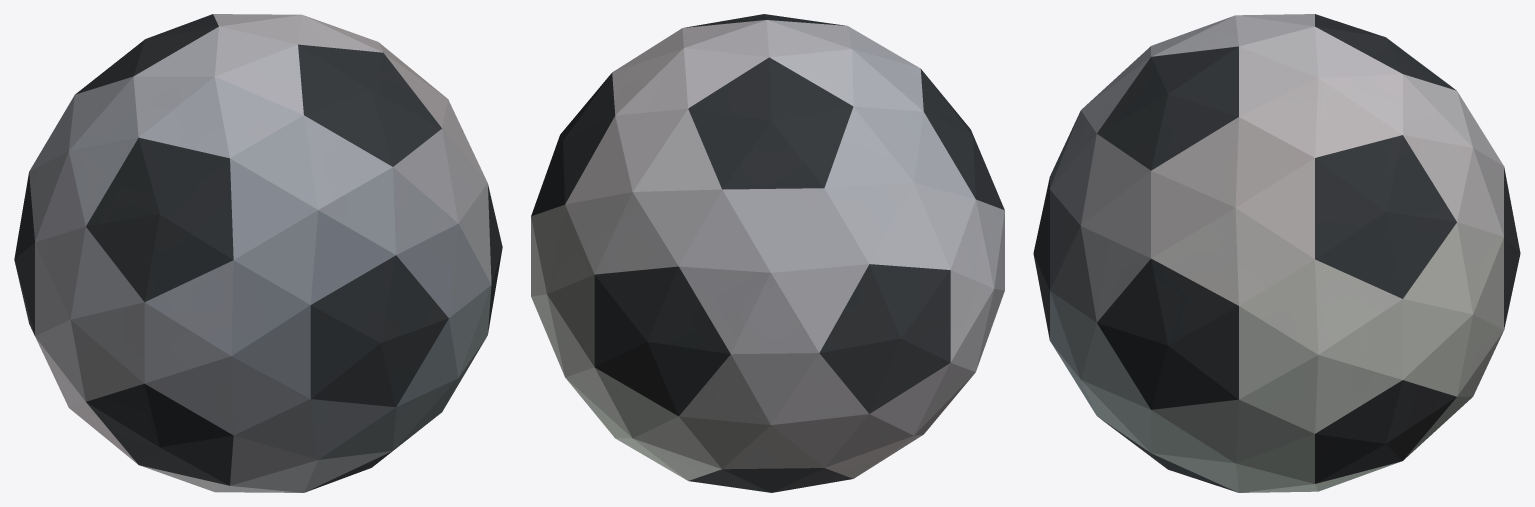
File: 35_soccer_ball.glb
3 views of the same model, side by side, from view 1: azimuth 30°, elevation 25°; view 2: azimuth 150°, elevation 25°; view 3: azimuth 270°, elevation 25° (orthographic).
Visible parts, largest first — view 1: soccerball; view 2: soccerball; view 3: soccerball.
Boxes of the visible parts, x1,y1,x2,y2 form: soccerball: (14,14,502,492); soccerball: (531,14,1004,492); soccerball: (1033,14,1520,492).
Size of the model in its own units: 0.2168 by 0.2163 by 0.22.
1 material, 1 textured.
